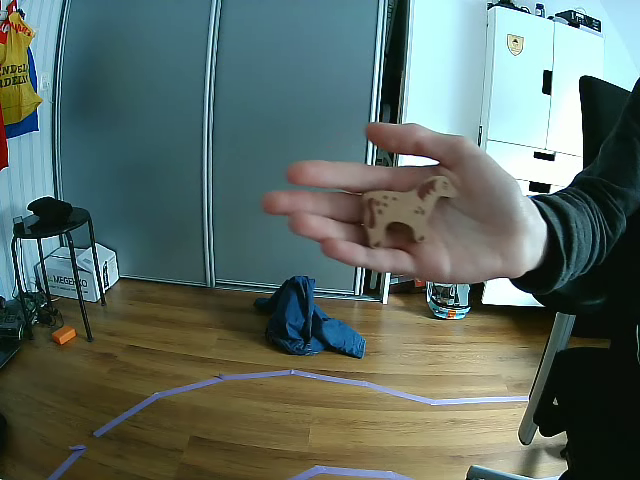paard: (366, 175, 453, 248)
